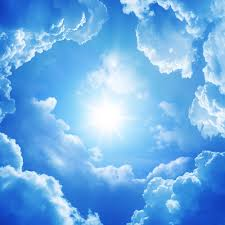sky: (1, 1, 224, 225)
